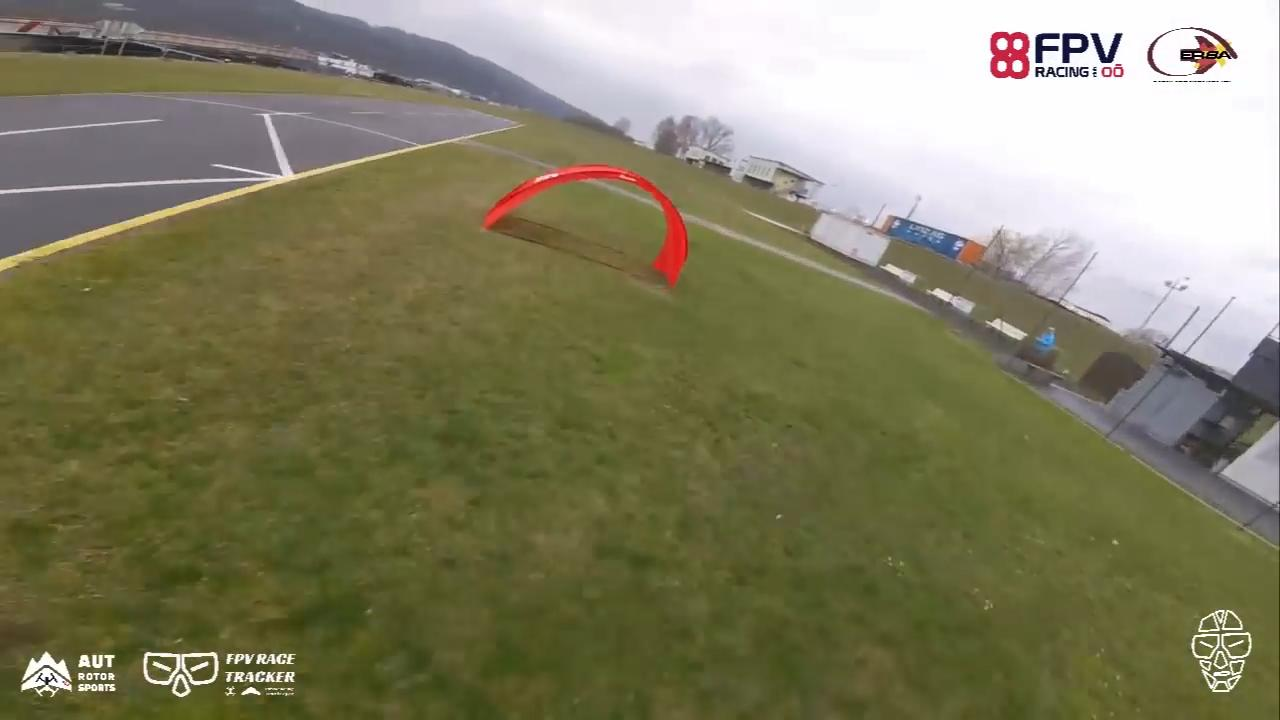gate: (478, 162, 693, 293)
